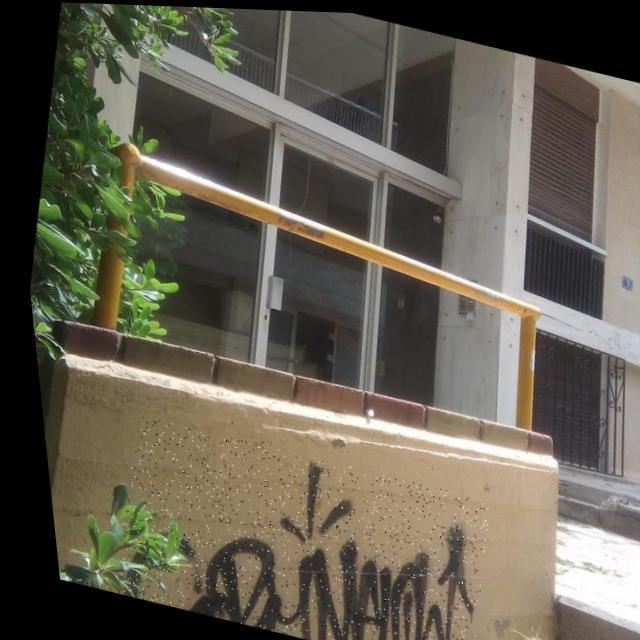-: (89, 413, 492, 640)
